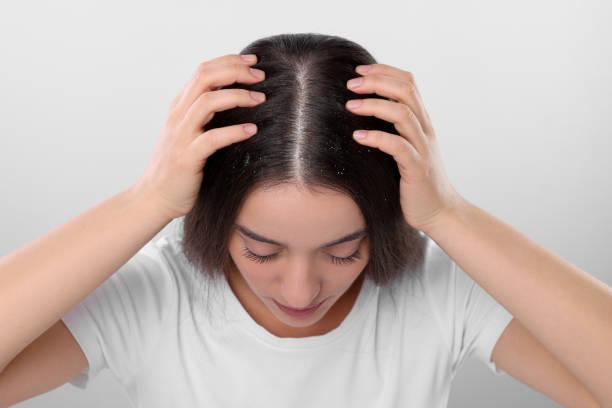dandruff: (231, 150, 265, 175), (325, 162, 351, 182), (358, 144, 377, 153), (381, 192, 389, 204)
